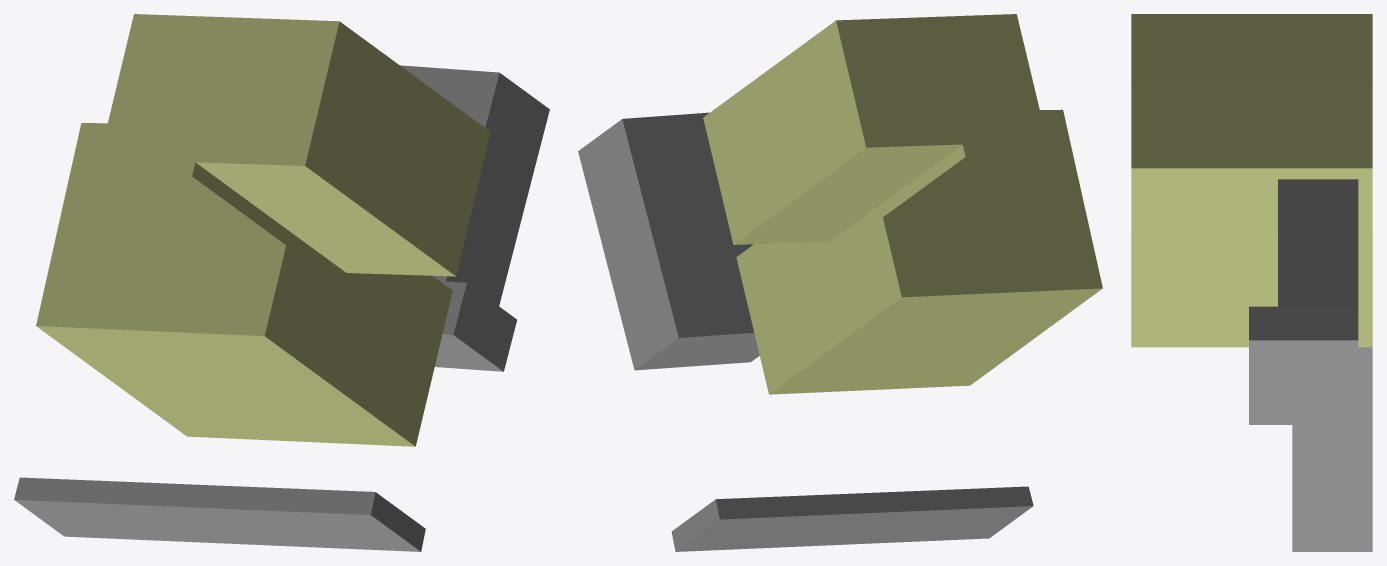
3 views of the same model, side by side, from view 1: azimuth 30°, elevation 25°; view 2: azimuth 150°, elevation 25°; view 3: azimuth 270°, elevation 25° (orthographic). The views are drawn at different scales.
Visible parts, largest first — view 1: 0_1_2_0_1_3_0_2_3_2; view 2: 0_1_2_0_1_3_0_2_3_2; view 3: 0_1_2_0_1_3_0_2_3_2.
Boxes of the visible parts, box(x1,y1,x2,y2) form: 0_1_2_0_1_3_0_2_3_2: box(14, 14, 549, 551); 0_1_2_0_1_3_0_2_3_2: box(578, 14, 1102, 551); 0_1_2_0_1_3_0_2_3_2: box(1131, 14, 1372, 551).
Size of the model in its own units: 16.39 by 18.37 by 9.
